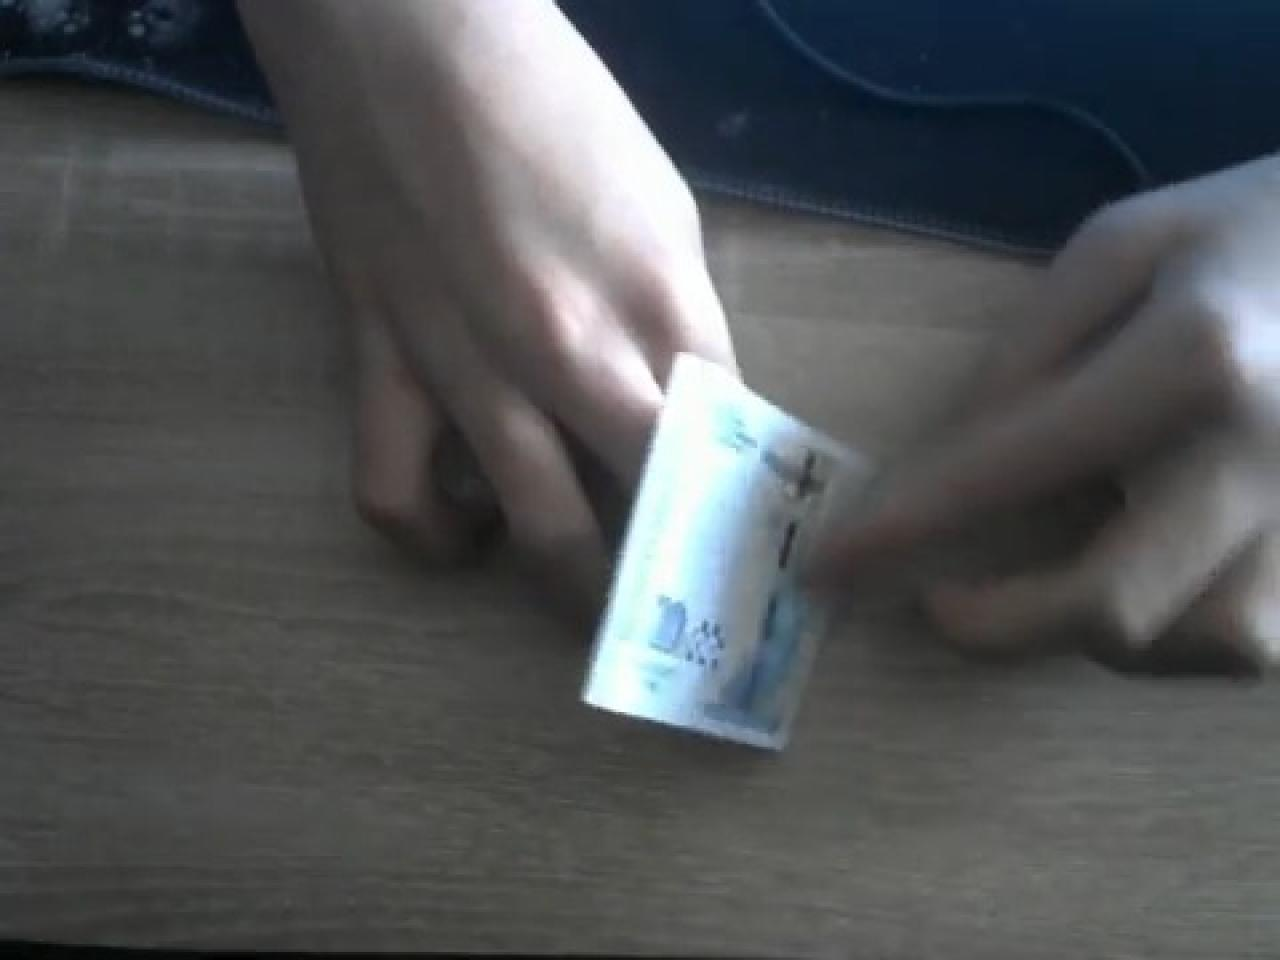20leva: (579, 355, 859, 757)
